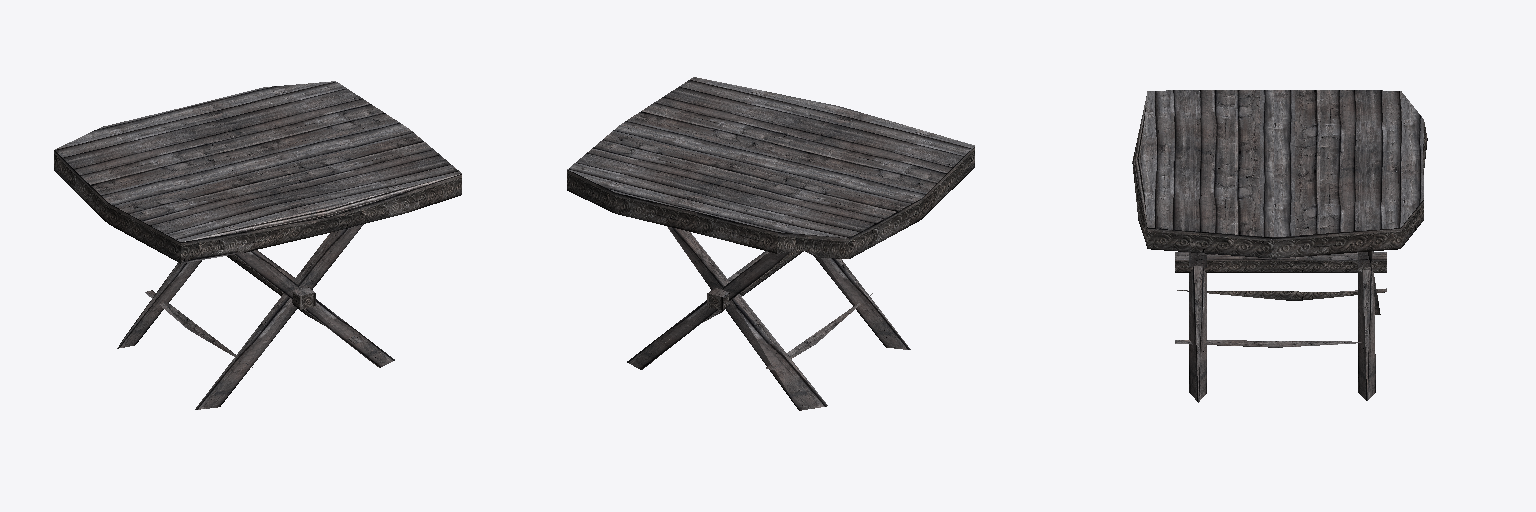
The picture shows the model from 3 angles: view 1: azimuth 30°, elevation 25°; view 2: azimuth 150°, elevation 25°; view 3: azimuth 270°, elevation 25°; orthographic projection.
Parts seen in each view (by area): view 1: Default_Layer; view 2: Default_Layer; view 3: Default_Layer.
Part boxes in pixels (x1,y1,x2,y2): Default_Layer: (54,81,461,409); Default_Layer: (567,77,974,410); Default_Layer: (1132,90,1427,402).
Size of the model in its own units: 5.97 by 3.76 by 5.07.
1 materials, 1 textured.